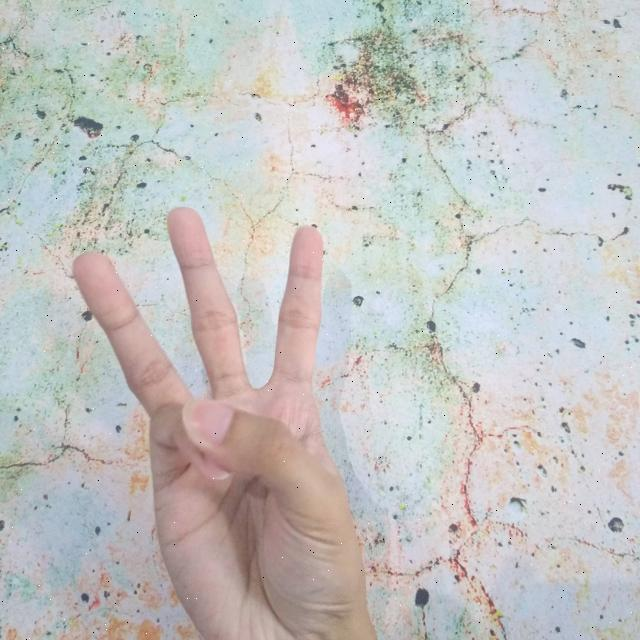W: (65, 196, 384, 640)
